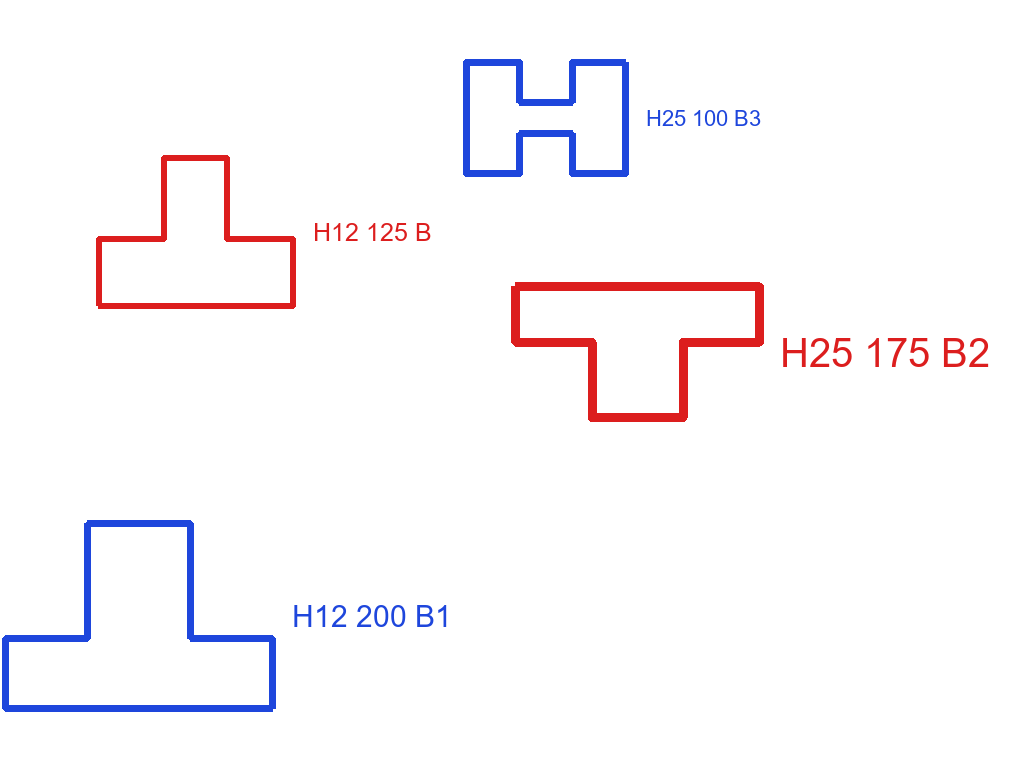shape: (0, 518, 278, 714), (509, 280, 766, 424), (93, 153, 298, 311), (461, 57, 631, 179)
text: (778, 336, 992, 369), (290, 603, 454, 629), (311, 221, 434, 243), (644, 108, 763, 128)
